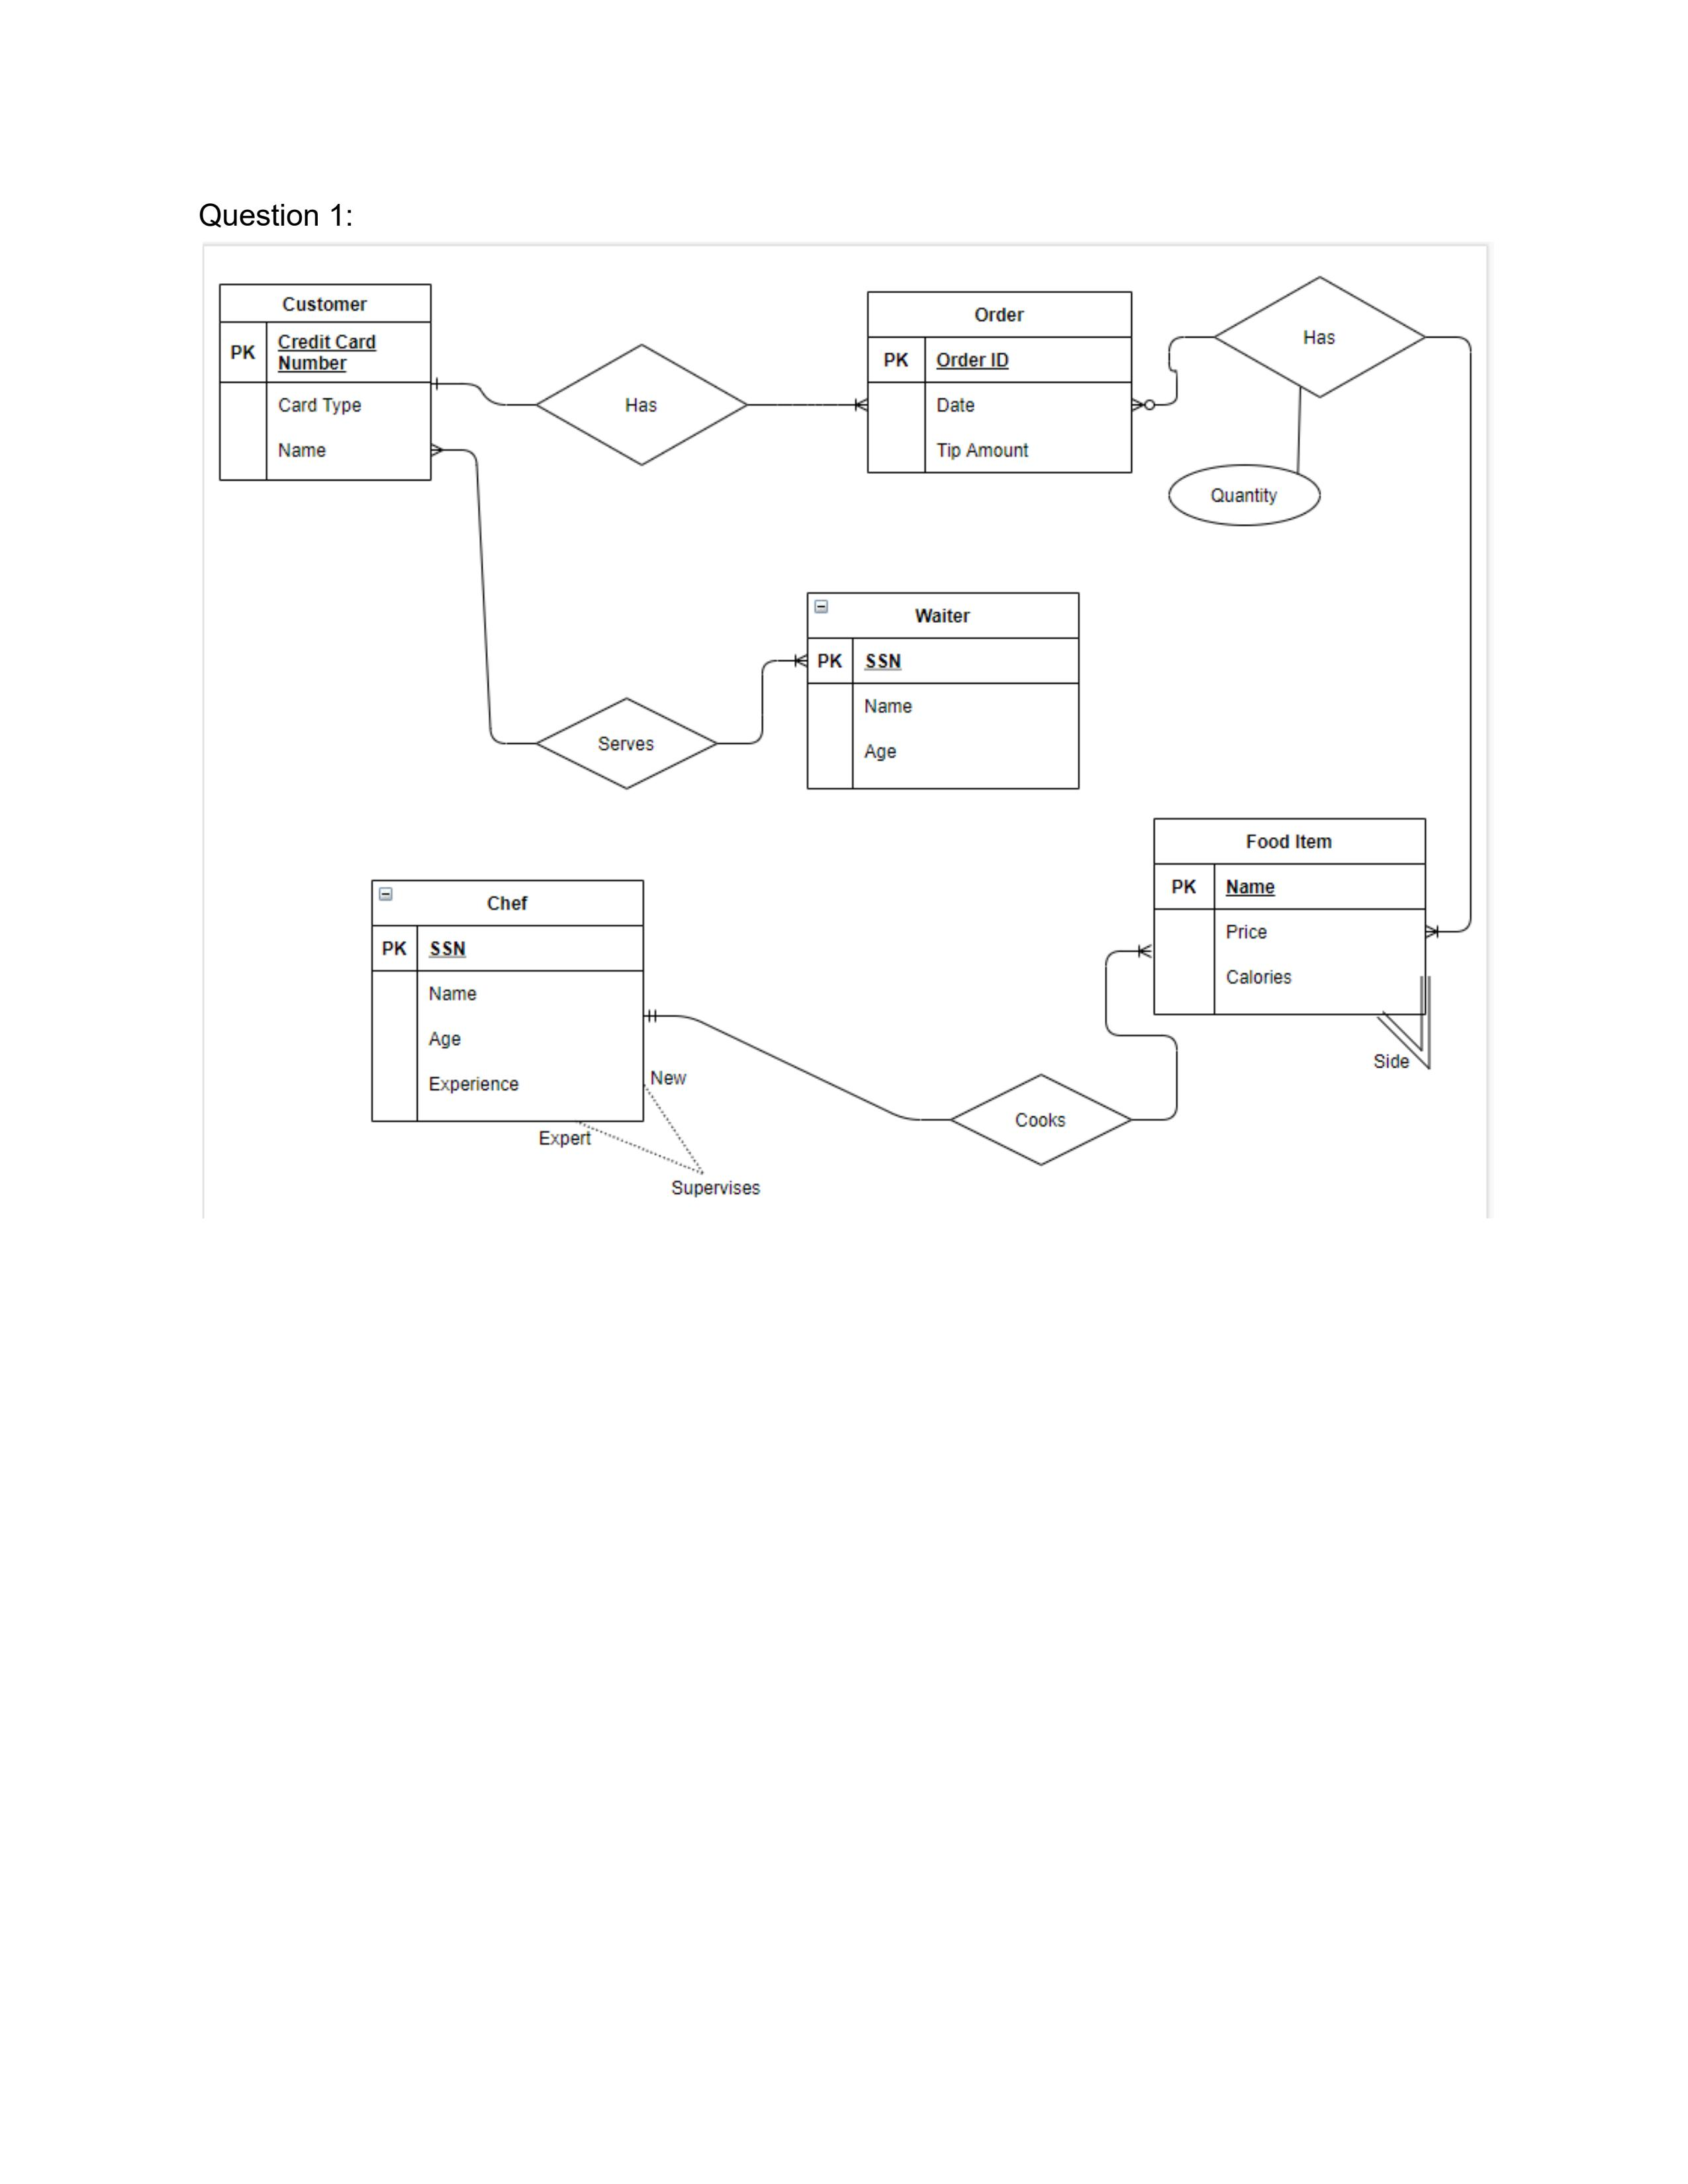Attribute: (1168, 464, 1323, 528)
Entity: (369, 877, 645, 1124), (805, 590, 1083, 792), (1153, 815, 1429, 1018), (865, 291, 1135, 475), (216, 282, 434, 484)
Relationship: (1215, 275, 1426, 399), (535, 344, 748, 464), (535, 697, 718, 789), (950, 1074, 1131, 1166)
